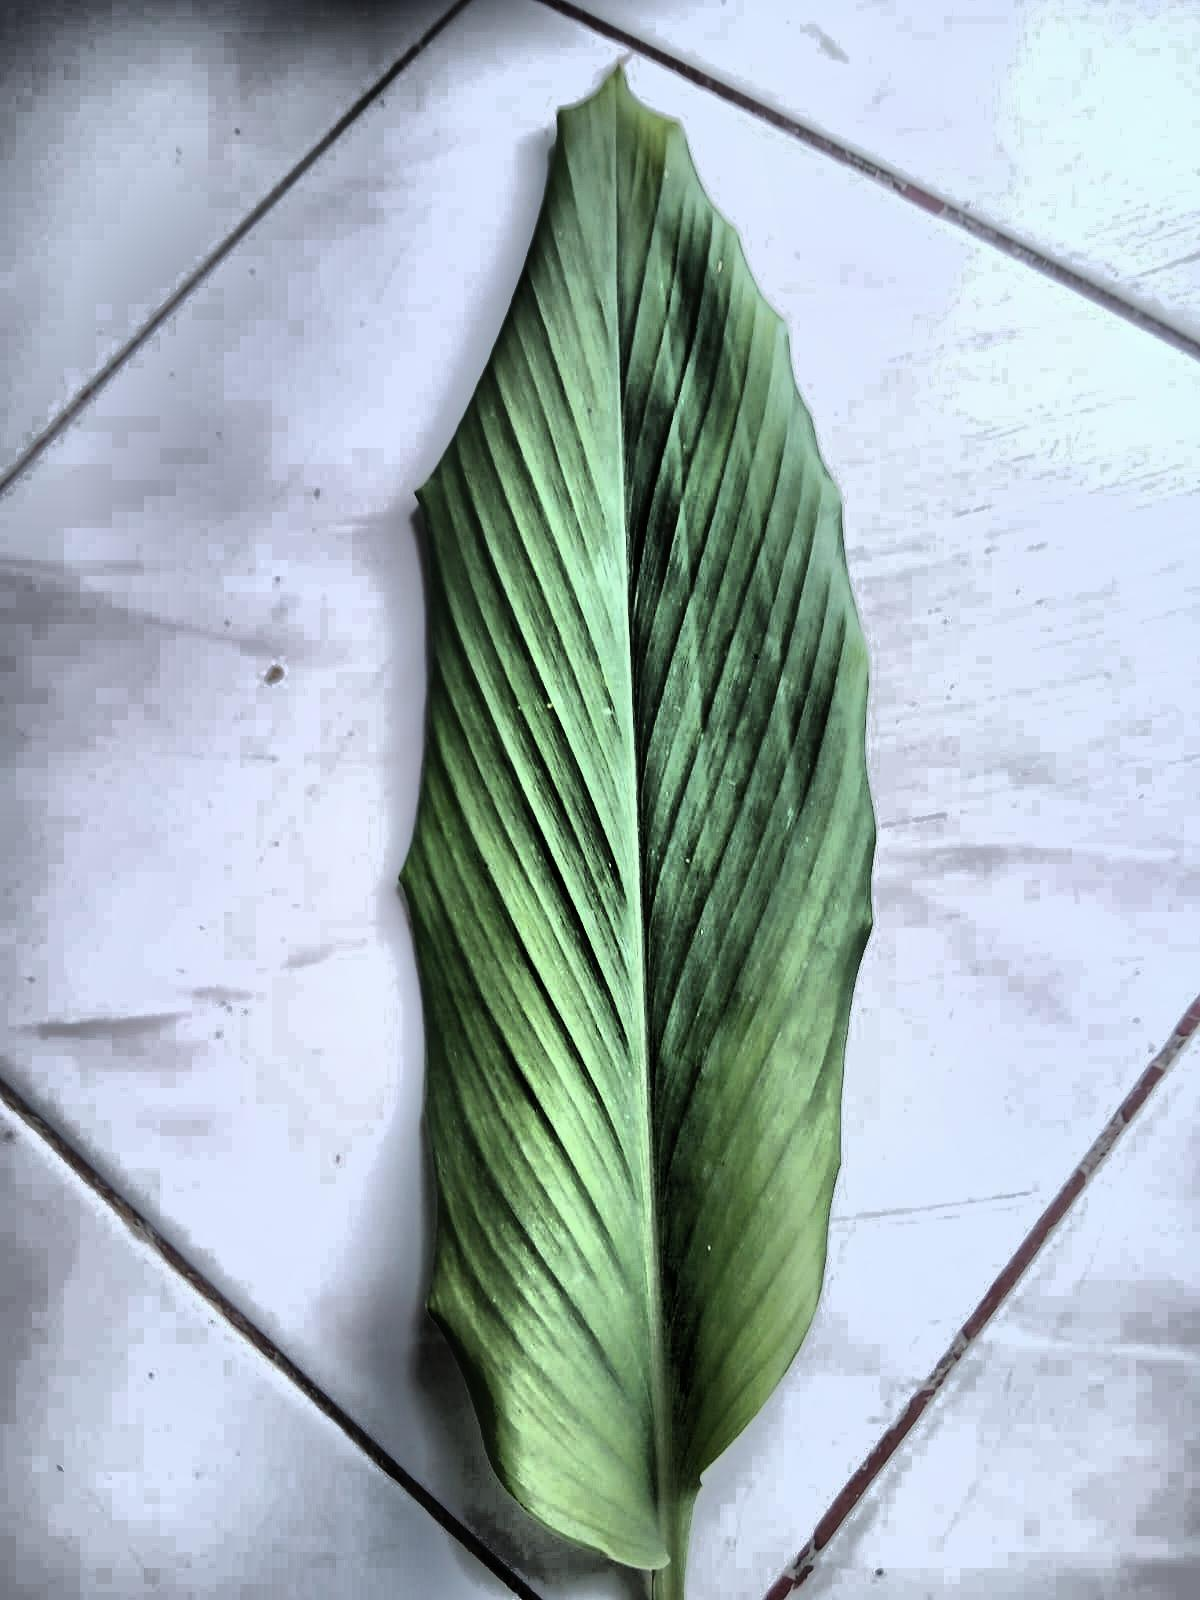daun kunyit: (402, 71, 874, 1599)
